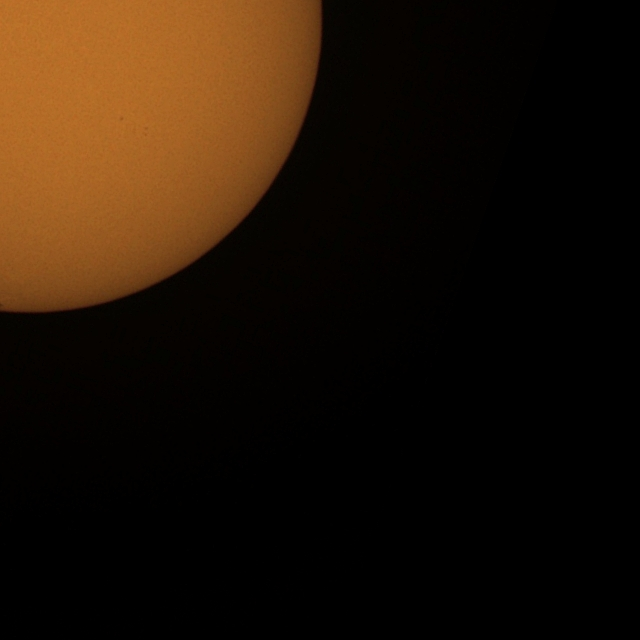sunspot: (141, 126, 150, 138)
